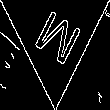M_SW: (27, 3, 83, 70)
